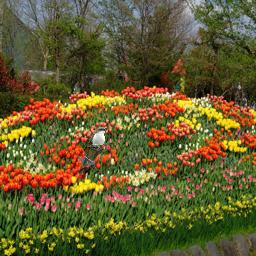Cuckoo: (77, 126, 107, 175)
